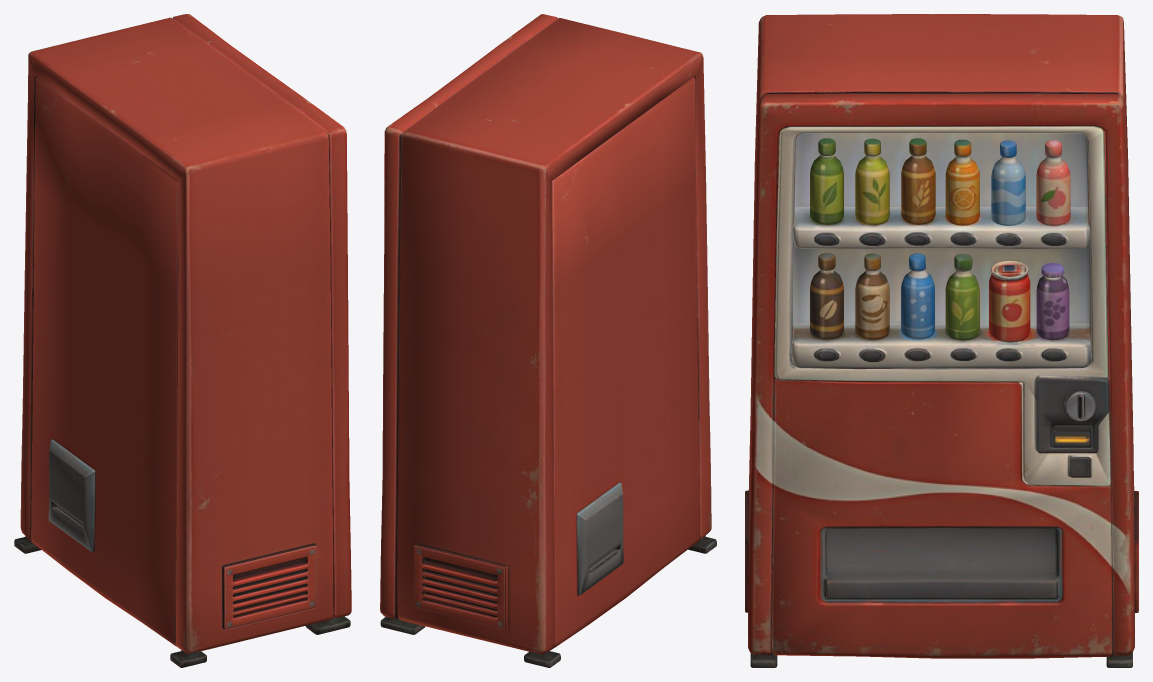
The model's file is vending_machine.glb.
3 views of the same model, side by side, from view 1: azimuth 30°, elevation 25°; view 2: azimuth 150°, elevation 25°; view 3: azimuth 270°, elevation 25° (orthographic). The views are drawn at different scales.
Visible parts, largest first — view 1: tripo_node_bd72ba01-5a4c-4713-9fdc-32acf39862a2; view 2: tripo_node_bd72ba01-5a4c-4713-9fdc-32acf39862a2; view 3: tripo_node_bd72ba01-5a4c-4713-9fdc-32acf39862a2.
Part boxes in pixels (x1,y1,x2,y2): tripo_node_bd72ba01-5a4c-4713-9fdc-32acf39862a2: (14, 14, 351, 667); tripo_node_bd72ba01-5a4c-4713-9fdc-32acf39862a2: (380, 14, 716, 667); tripo_node_bd72ba01-5a4c-4713-9fdc-32acf39862a2: (745, 14, 1138, 667).
Bounding box in the file's own units: 0.3784 × 0.9995 × 0.6294.
1 material, 1 textured.
